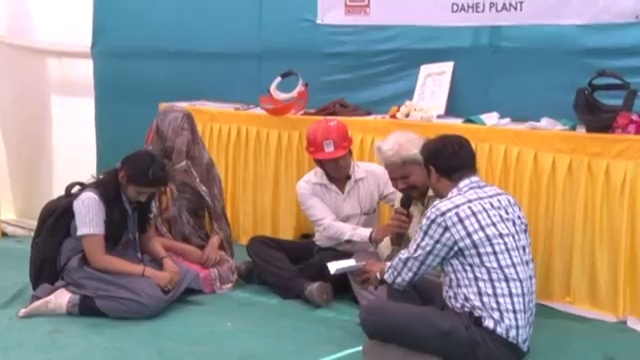helmet: (302, 119, 357, 162)
helmet_off: (418, 135, 480, 205), (380, 130, 431, 209), (112, 151, 168, 212), (150, 108, 202, 170)
helmet_on: (297, 117, 358, 183)
person: (343, 126, 537, 360), (17, 152, 193, 322), (248, 110, 391, 305), (140, 97, 234, 291), (350, 132, 437, 305)
